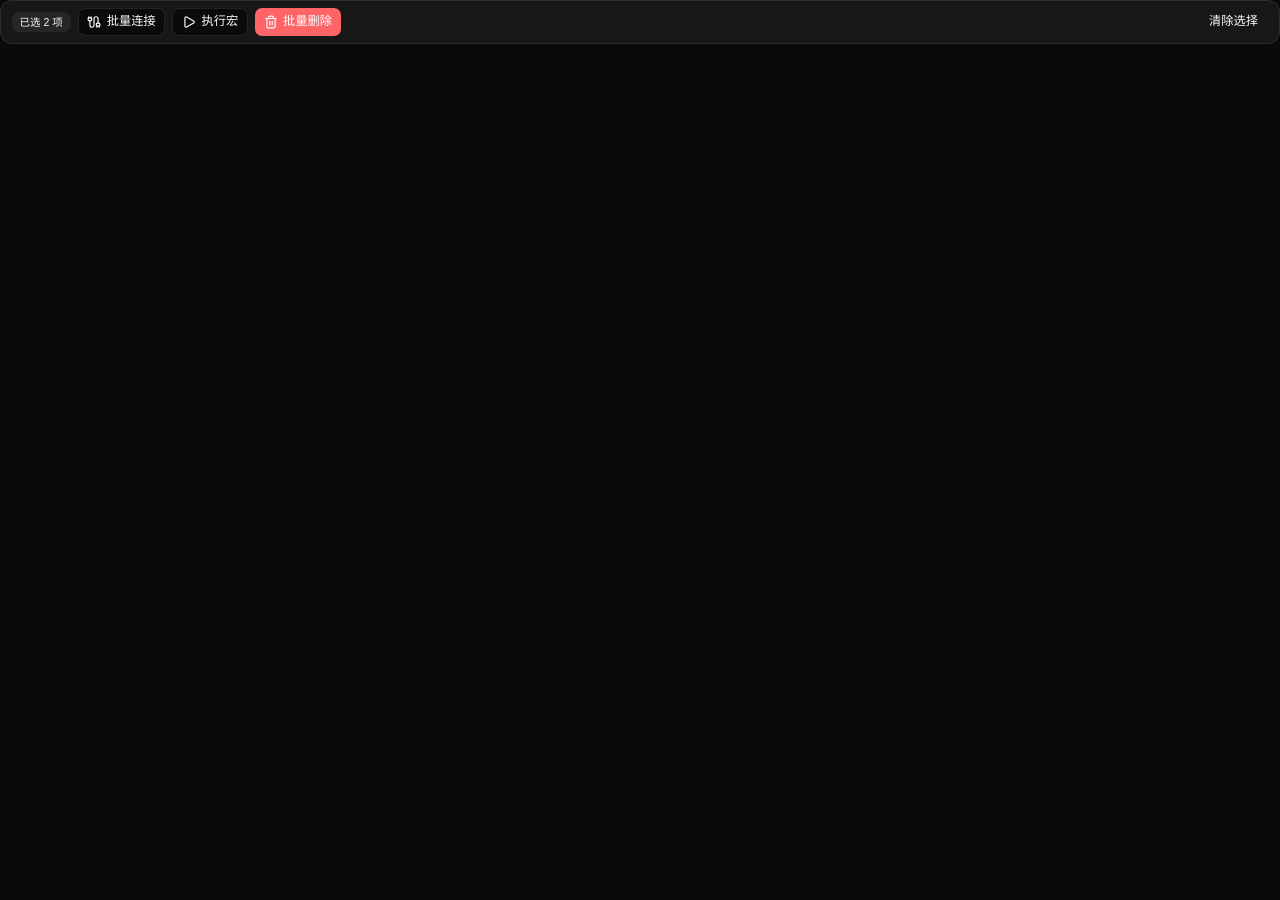
Test: SessionBatchActions › confirms macro execution and reports each node result
Click the button "执行宏": (210, 22) [172,8,248,36]
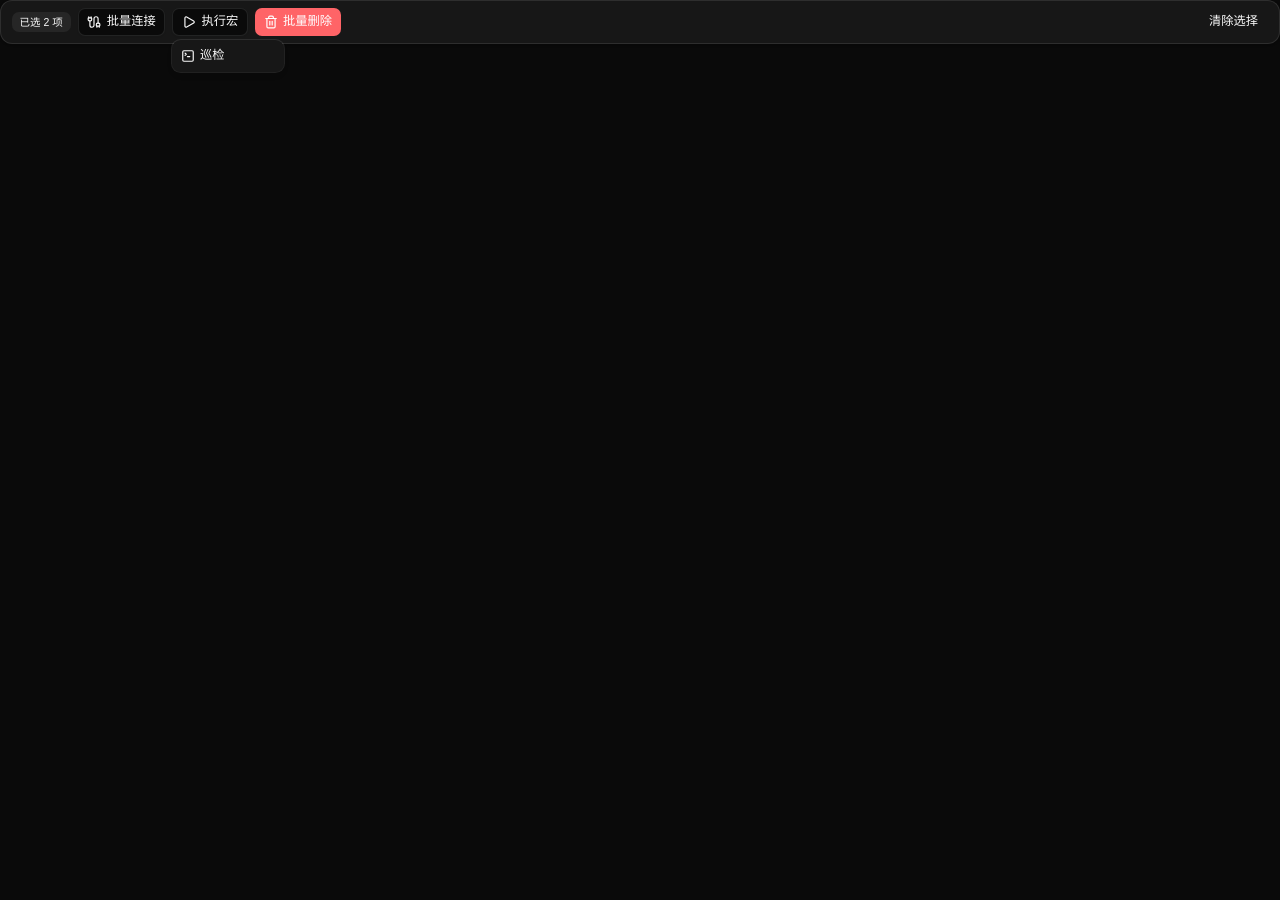
Click the menu item "巡检": (203, 55) [181,48,225,63]
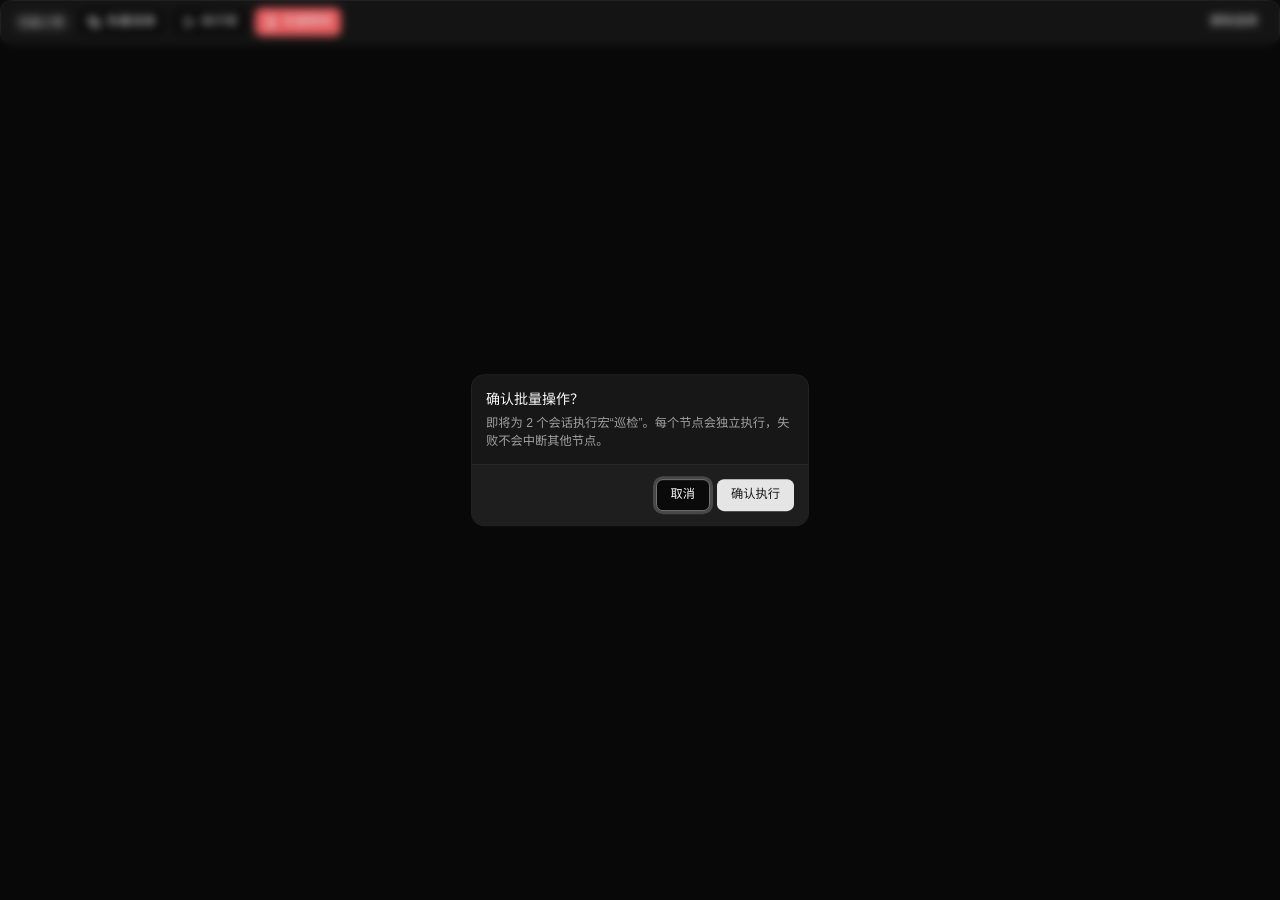
Check: the dialog shows "执行宏“巡检”", box [486,416,790,448]
Click the button "确认执行": (756, 495) [717,479,794,511]
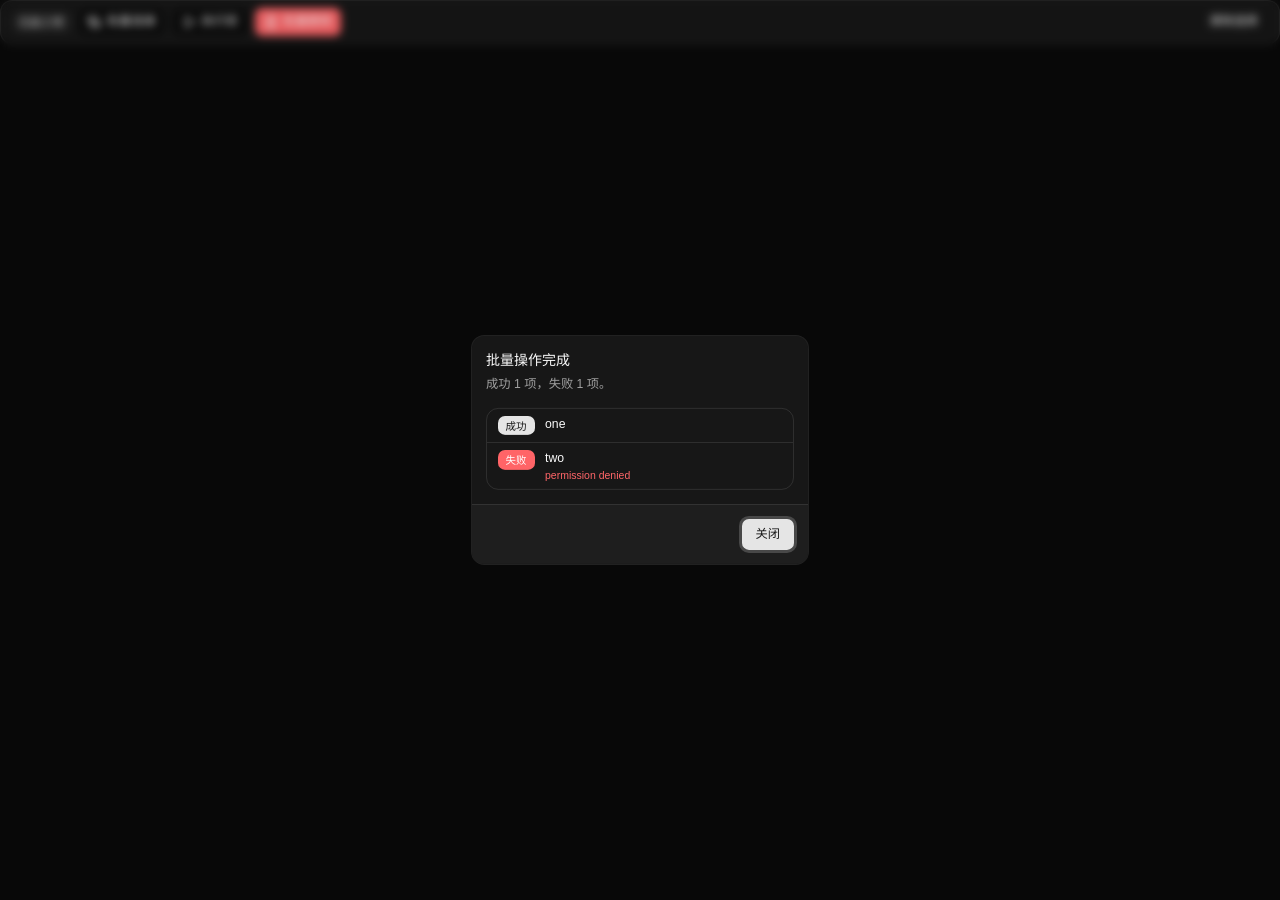
Check: the text "成功 1 项，失败 1 项。" is shown, box [486,376,611,394]
Check: the text "permission denied" is shown, box [545,468,630,482]
